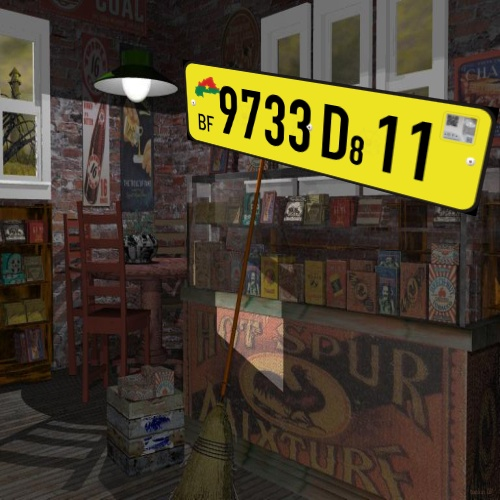plate: (170, 48, 494, 230)
